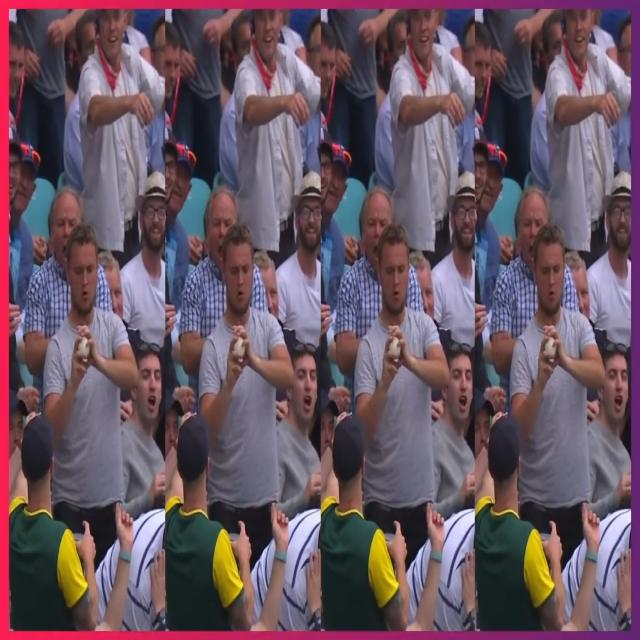ball: (541, 334, 563, 370), (383, 334, 405, 366), (71, 338, 98, 364), (231, 333, 248, 366)
